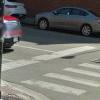Crosswalk: (28, 54, 100, 100)
